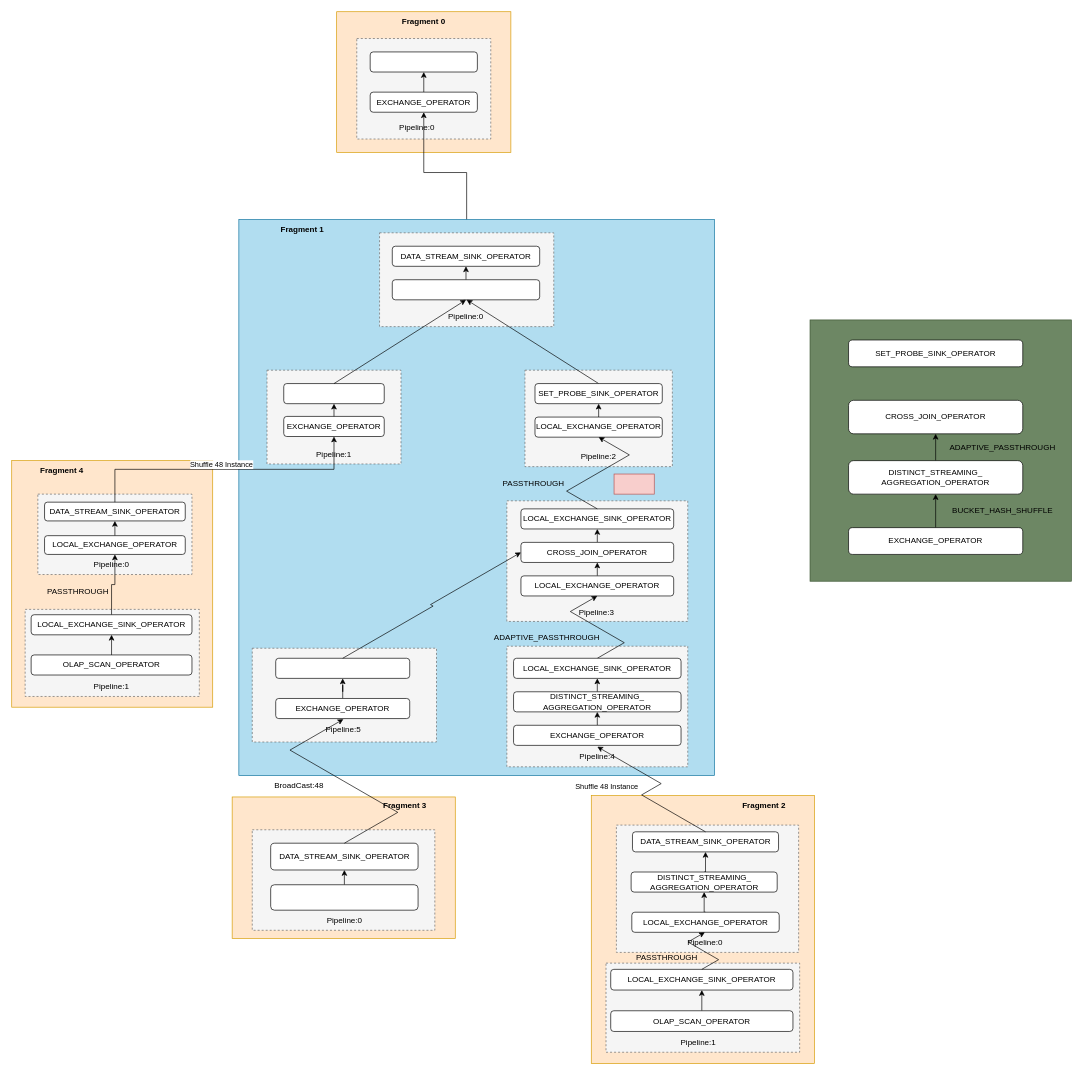
This 1083x1075 diagram has some shape labels left out. The box of each missing label's shape, as (x1, y1, x2, y2) in pixels:
CROSS_JOIN_SINK_OPERATOR: (275, 658, 410, 678)
INTERSECT_OPERATOR: (392, 279, 540, 300)
RESULT_SINK_OPERATOR: (370, 51, 477, 72)
SET_SINK_OPERATOR: (283, 383, 384, 404)
Shuffle: (613, 473, 654, 494)
UNION_OPERATOR: (270, 884, 418, 910)
